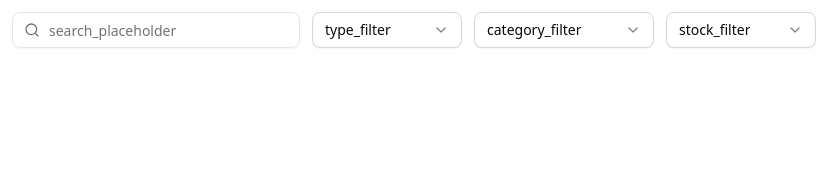
Test case: CatalogFilterBar › Category filter functionality › should only show active categories in dropdown
Click the dropdown "category_filter": (564, 30) 474,12 -> 654,48
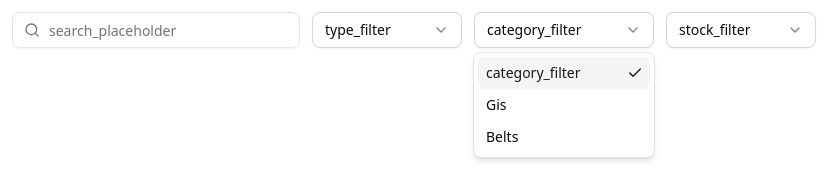
Result: the option "Gis" is shown at 486,95 -> 506,114
Result: the option "Belts" is shown at 486,127 -> 518,146
